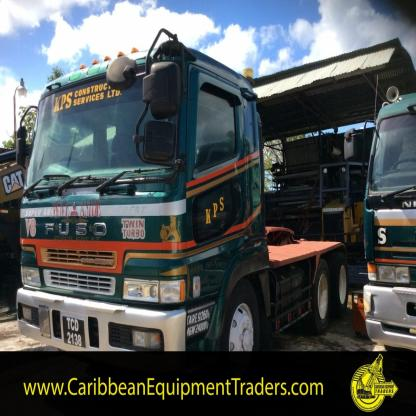truck: (16, 31, 347, 354)
